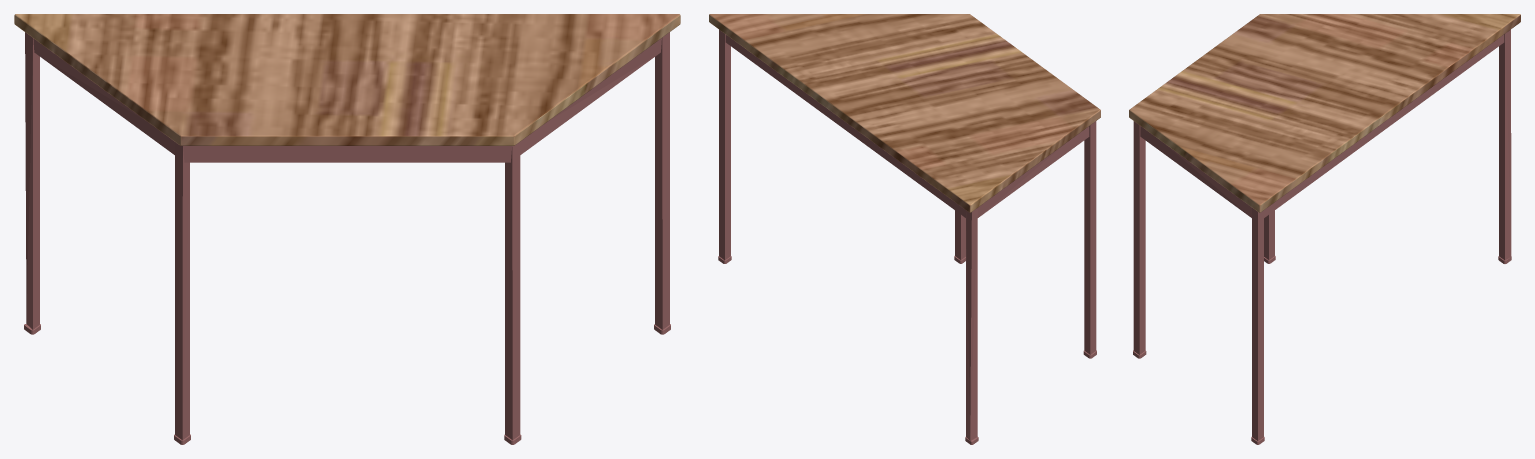
The model's file is conference_form28_140x70_progress.fbx.
3 views of the same model, side by side, from view 1: azimuth 30°, elevation 25°; view 2: azimuth 150°, elevation 25°; view 3: azimuth 270°, elevation 25° (orthographic). The views are drawn at different scales.
Parts seen in each view (by area): view 1: drewno_mesh, metal_mesh; view 2: drewno_mesh, metal_mesh; view 3: drewno_mesh, metal_mesh.
Part boxes in pixels (x1,y1,x2,y2): drewno_mesh: (14,14,680,145); metal_mesh: (25,32,669,440); drewno_mesh: (709,14,1100,212); metal_mesh: (719,29,1096,440); drewno_mesh: (1129,14,1520,212); metal_mesh: (1133,29,1511,440).
Size of the model in its own units: 121 by 72 by 105.
